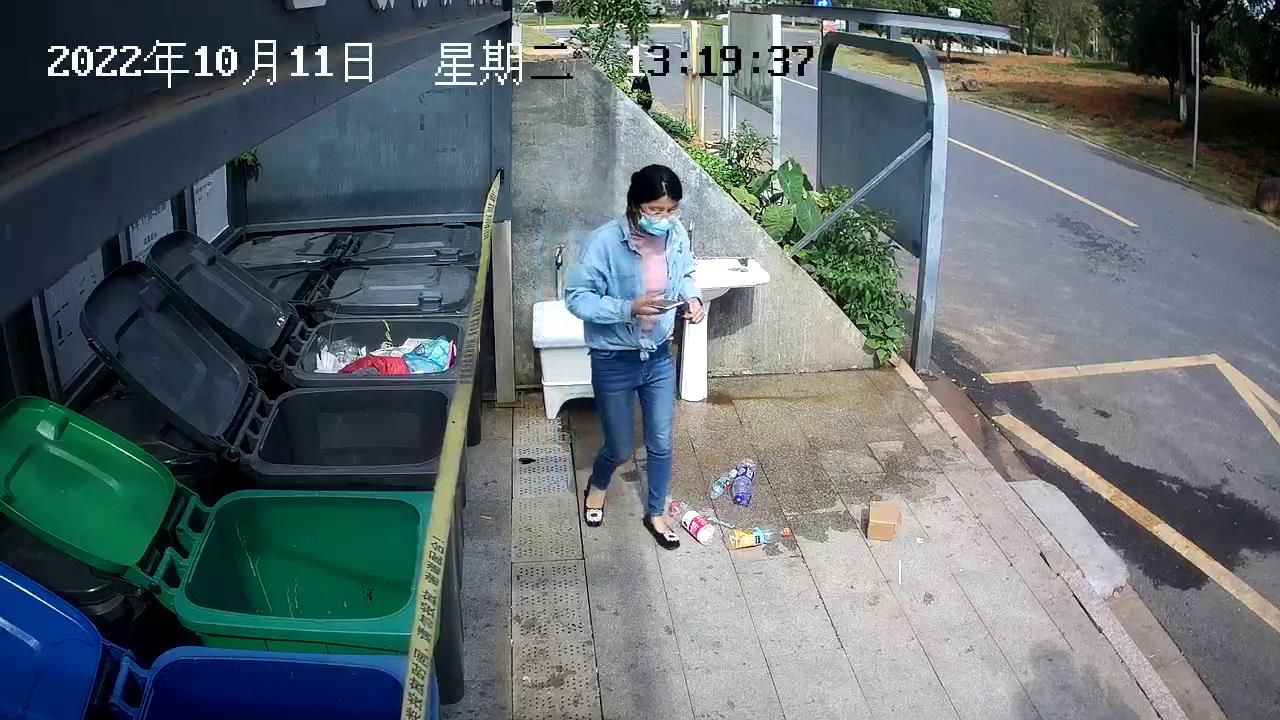suliaozhipin: (663, 490, 719, 545), (724, 523, 797, 552), (730, 458, 758, 509), (706, 466, 741, 501)
worker: (561, 159, 707, 551)
zhizhipin: (864, 495, 908, 546)
